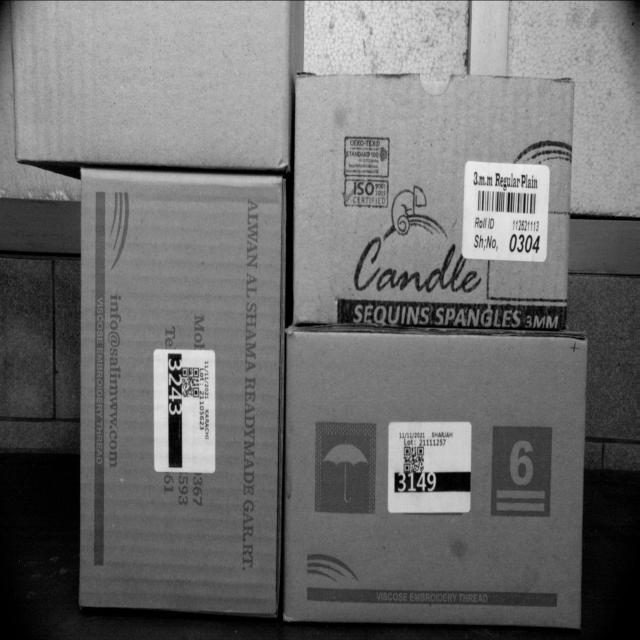cardboxes: (79, 153, 278, 619), (284, 331, 582, 634), (291, 60, 577, 337), (9, 0, 297, 171)
